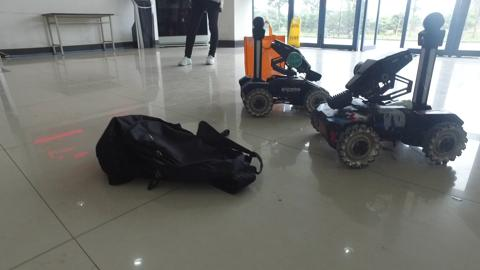bag: (89, 111, 263, 193)
chariot: (311, 10, 468, 167), (241, 16, 328, 113)
